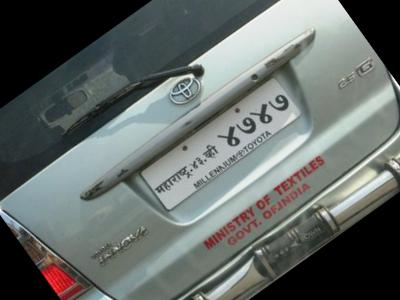plate: (128, 54, 324, 226)
